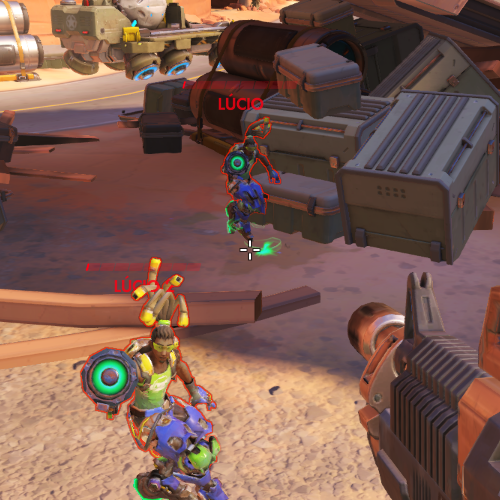hpbar: (181, 80, 299, 90), (85, 262, 202, 272)
